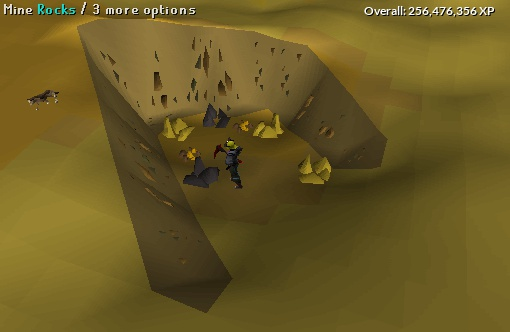depleted: (178, 153, 225, 194), (193, 96, 240, 137)
gold: (294, 151, 337, 189), (245, 107, 288, 145), (158, 107, 201, 145)
